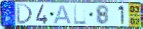1: (117, 5, 125, 25)
4: (36, 4, 49, 25)
8: (95, 4, 110, 26)
A: (52, 5, 73, 25)
D: (16, 3, 34, 25)
L: (73, 4, 88, 25)
